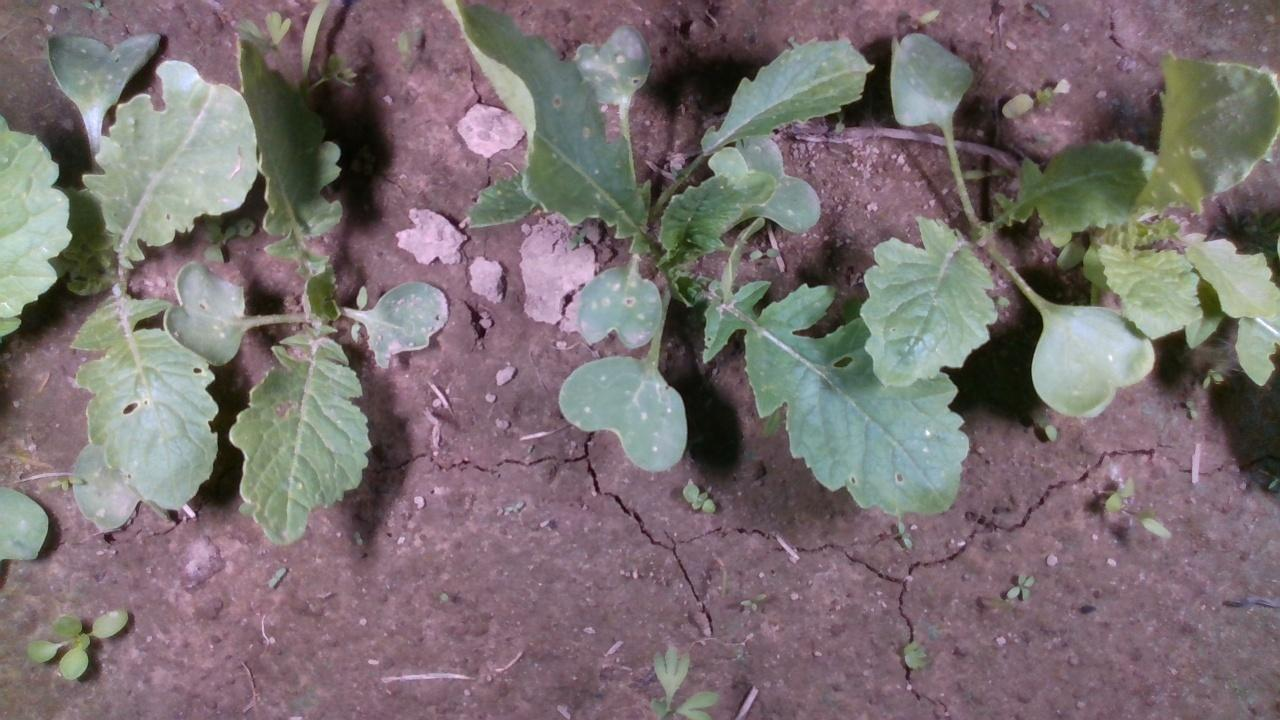weed: (18, 605, 132, 685)
